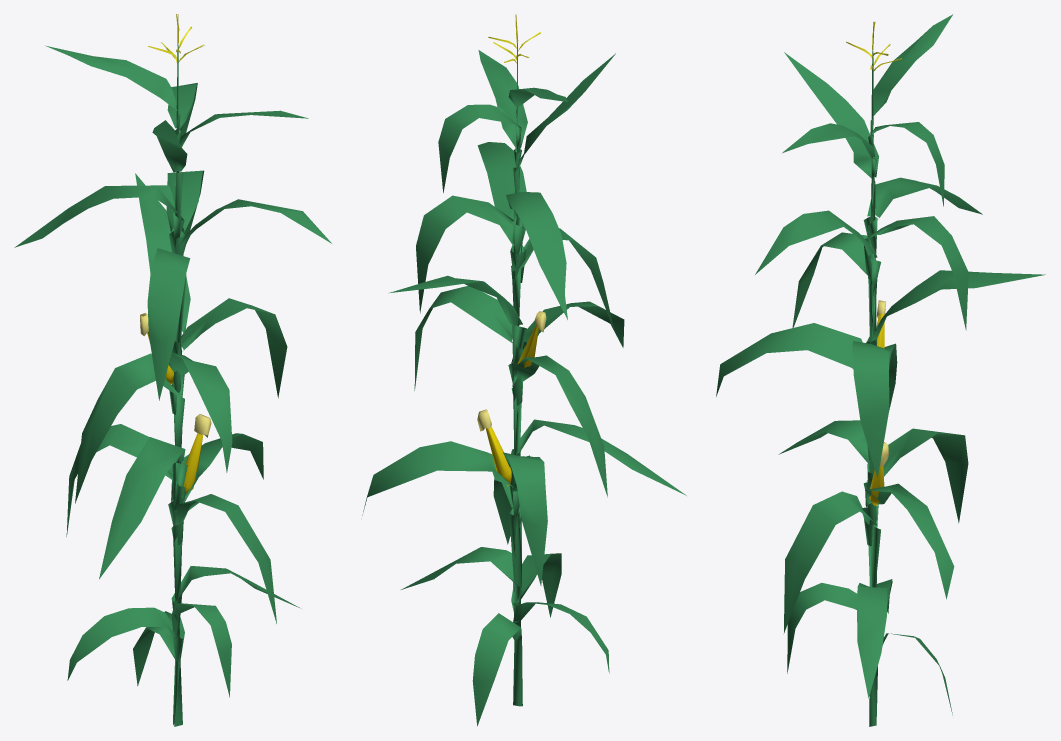
Rendered from cornLOD2.gltf.
3 views of the same model, side by side, from view 1: azimuth 30°, elevation 25°; view 2: azimuth 150°, elevation 25°; view 3: azimuth 270°, elevation 25° (orthographic). The views are drawn at different scales.
Parts seen in each view (by area): view 1: LeavesLOD2, CornLOD2; view 2: LeavesLOD2, CornLOD2; view 3: LeavesLOD2, CornLOD2.
Boxes of the visible parts, x1,y1,x2,y2 form: LeavesLOD2: [14, 45, 331, 726]; CornLOD2: [147, 332, 203, 495]; LeavesLOD2: [362, 50, 686, 726]; CornLOD2: [485, 315, 540, 485]; LeavesLOD2: [716, 14, 1045, 726]; CornLOD2: [869, 313, 884, 505].
Bounding box in the file's own units: 113 × 307 × 131.
